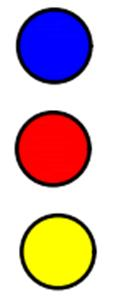blue_circle: (11, 2, 99, 88)
red_circle: (7, 106, 98, 192)
yellow_circle: (12, 208, 101, 291)
